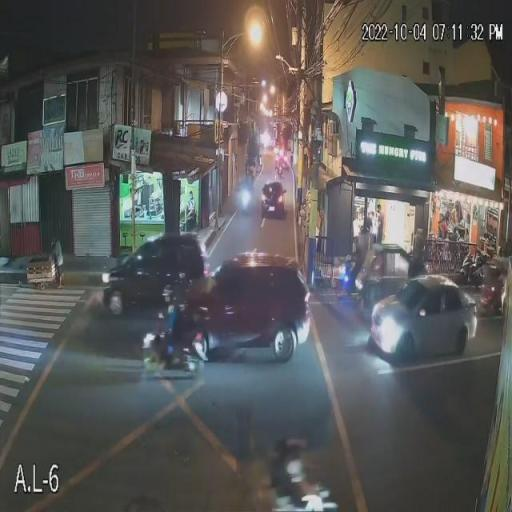helmet: (159, 284, 182, 308)
motorcycle: (125, 314, 242, 386)
rider: (158, 299, 186, 364)
